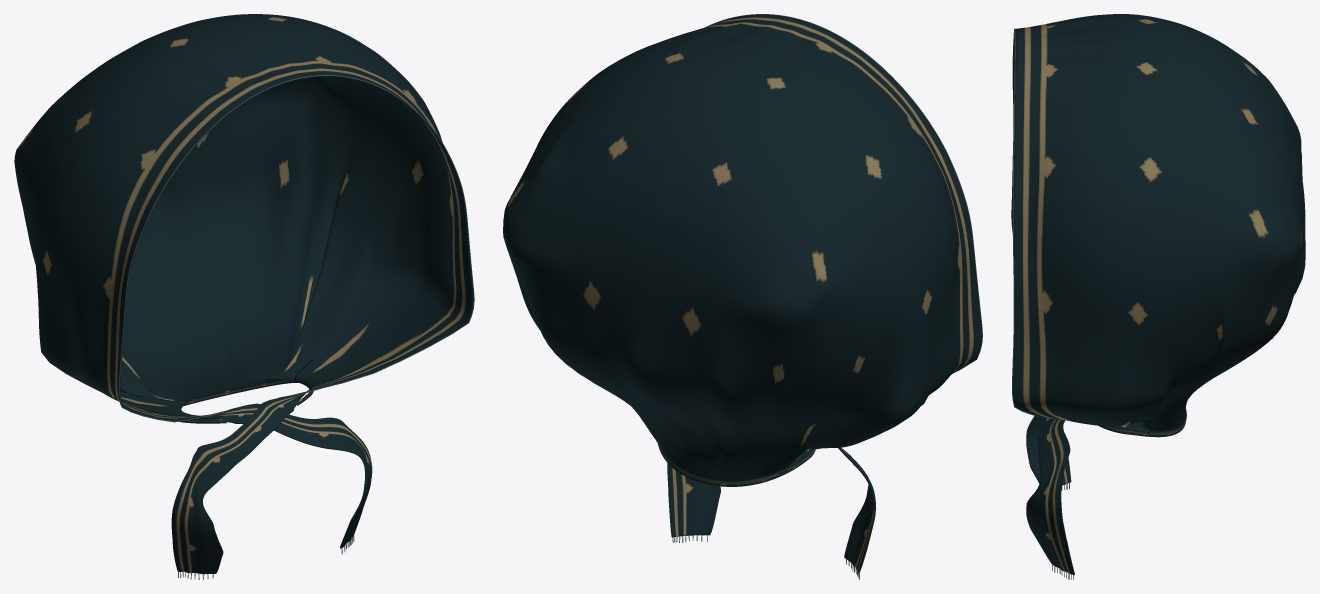
The model's file is Feminine-space-buns-open-pashmina249-headgear.glb.
3 renders of one model, left to right at view 1: azimuth 30°, elevation 25°; view 2: azimuth 150°, elevation 25°; view 3: azimuth 270°, elevation 25°, orthographic. The views are drawn at different scales.
Parts seen in each view (by area): view 1: 226 headgear / Headwear / continuous woven pashmina239, 226 headgear / Headwear / face edge239; view 2: 226 headgear / Headwear / continuous woven pashmina239, 226 headgear / Headwear / face edge239; view 3: 226 headgear / Headwear / continuous woven pashmina239, 226 headgear / Headwear / face edge239.
Part boxes in pixels (bbox=[...]): 226 headgear / Headwear / continuous woven pashmina239: bbox=[14, 14, 473, 574]; 226 headgear / Headwear / face edge239: bbox=[118, 75, 474, 422]; 226 headgear / Headwear / continuous woven pashmina239: bbox=[503, 14, 981, 573]; 226 headgear / Headwear / face edge239: bbox=[704, 14, 982, 373]; 226 headgear / Headwear / continuous woven pashmina239: bbox=[1011, 14, 1305, 574]; 226 headgear / Headwear / face edge239: bbox=[1011, 28, 1055, 419].
Bounding box in the file's own units: 1.05 × 1.36 × 0.7241.
Materials: 3 (1 with a texture image).
